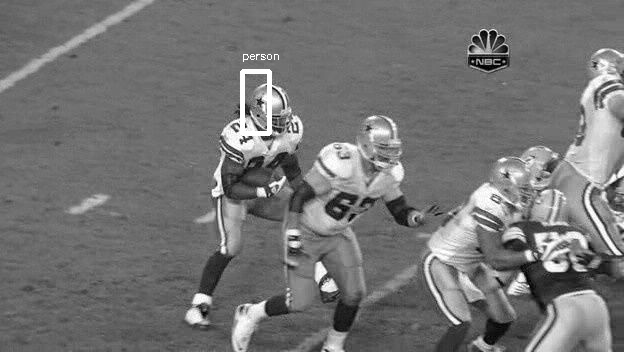person: (255, 85, 291, 131), (254, 85, 290, 131), (256, 85, 292, 131), (255, 84, 291, 130), (255, 86, 291, 132)
target_negative: (197, 209, 617, 332), (331, 14, 615, 119), (217, 180, 585, 258), (292, 265, 529, 293), (275, 265, 359, 289), (572, 202, 604, 250)
